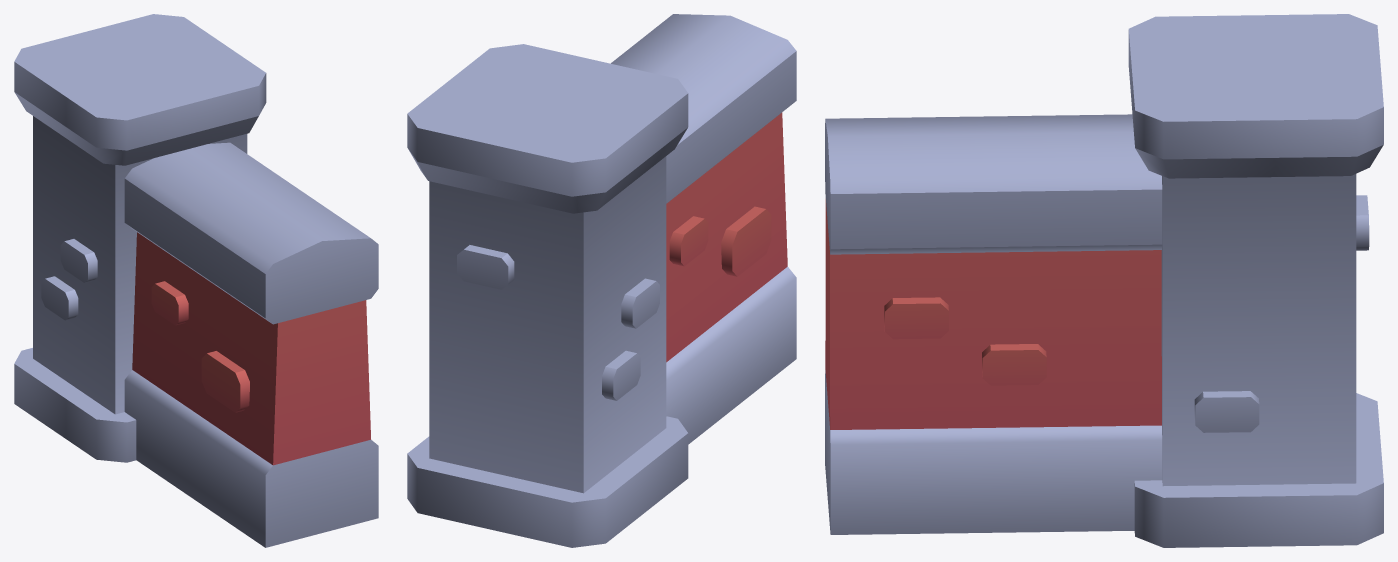
File: brick-wall-end.017_lev2.glb
3 views of the same model, side by side, from view 1: azimuth 30°, elevation 25°; view 2: azimuth 150°, elevation 25°; view 3: azimuth 270°, elevation 25° (orthographic). The views are drawn at different scales.
Parts seen in each view (by area): view 1: brick-wall-end.017_lev2; view 2: brick-wall-end.017_lev2; view 3: brick-wall-end.017_lev2.
Part boxes in pixels (box(x1,y1,x2,y2)): brick-wall-end.017_lev2: box(14, 14, 378, 547); brick-wall-end.017_lev2: box(407, 14, 796, 547); brick-wall-end.017_lev2: box(825, 14, 1383, 547).
Size of the model in its own units: 3.69 by 6.8 by 8.08.
1 material, 1 textured.
